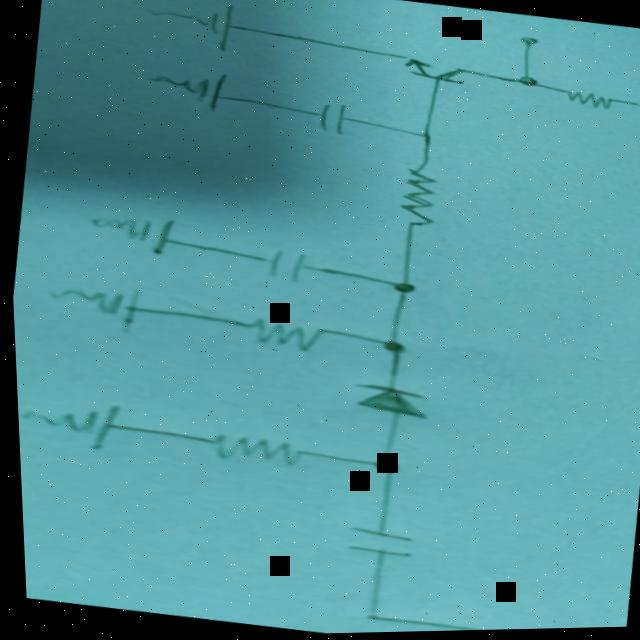capacitor: (346, 527, 412, 562), (262, 247, 318, 286), (311, 101, 351, 138)
diode: (352, 383, 425, 423)
ground: (14, 391, 128, 455), (43, 278, 149, 336), (144, 0, 246, 56), (143, 63, 236, 119), (86, 207, 180, 259)
junction: (351, 607, 394, 628), (374, 334, 410, 359), (386, 276, 420, 300), (366, 455, 401, 478), (512, 73, 546, 92), (407, 129, 439, 147)
resistor: (202, 429, 310, 471), (245, 318, 327, 355), (397, 171, 442, 234), (561, 88, 620, 114)
source: (634, 92, 640, 127)
terminal: (517, 34, 544, 53), (511, 627, 544, 631)
transistor: (401, 55, 475, 90)
